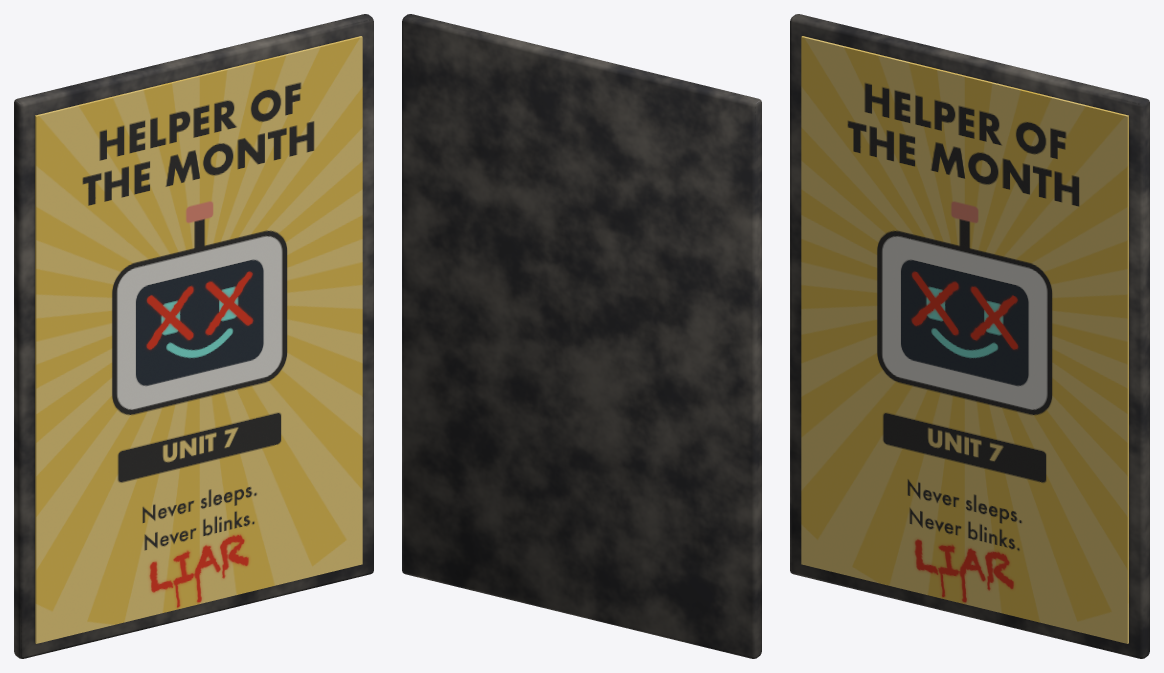
File: poster_frame.fbx
The picture shows the model from 3 angles, left to right: view 1: azimuth 30°, elevation 25°; view 2: azimuth 150°, elevation 25°; view 3: azimuth 330°, elevation 25°; orthographic projection.
Visible parts, largest first — view 1: Screen, Body; view 2: Body; view 3: Screen, Body.
Part boxes in pixels (box(x1,y1,x2,y2)): Screen: box(35, 36, 362, 643); Body: box(14, 14, 373, 658); Body: box(402, 14, 761, 658); Screen: box(801, 36, 1128, 643); Body: box(790, 14, 1149, 658).
Bounding box in the file's own units: 3 × 4.5 × 0.14.
Materials: 2 (2 with a texture image).
